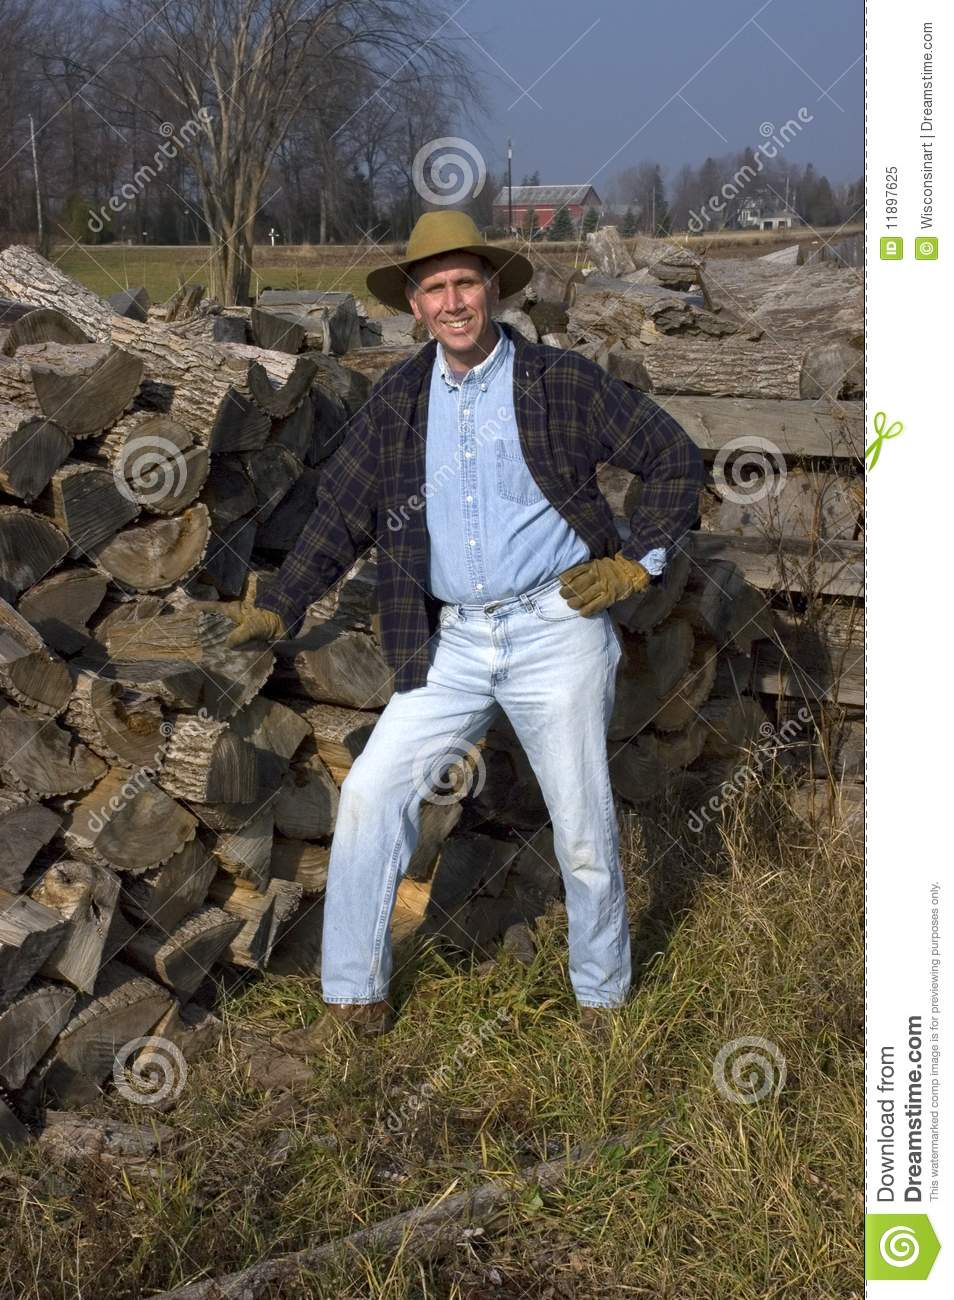person: (255, 210, 703, 1010)
